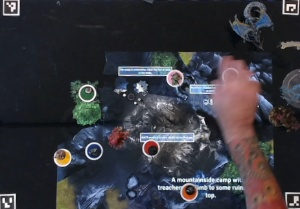blue: (83, 140, 103, 162)
green: (79, 83, 100, 104)
orange: (175, 178, 198, 202)
pink: (163, 66, 186, 90)
red: (139, 136, 163, 157)
yellow: (51, 148, 77, 166)
